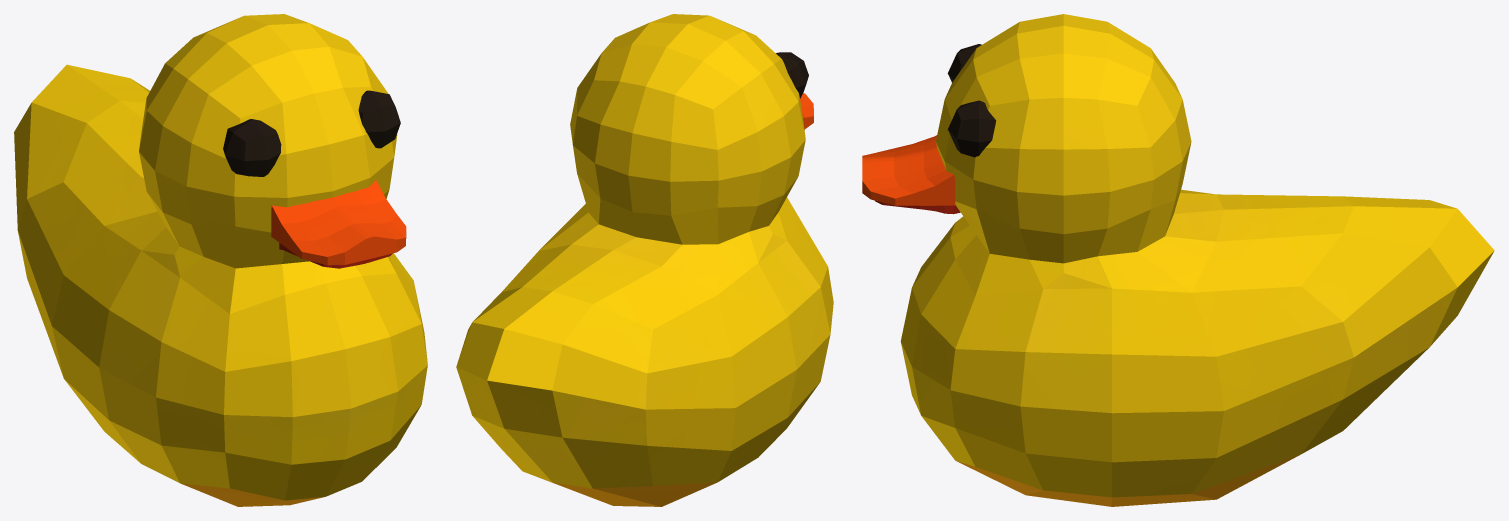
The model's file is bebek dan ikan.fbx.
The picture shows the model from 3 angles, left to right: view 1: azimuth 30°, elevation 25°; view 2: azimuth 150°, elevation 25°; view 3: azimuth 270°, elevation 25°; orthographic projection. The views are drawn at different scales.
Visible parts, largest first — view 1: Bebek; view 2: Bebek; view 3: Bebek.
Boxes of the visible parts, x1=… form: Bebek: x1=14, y1=14, x2=427, y2=506; Bebek: x1=456, y1=14, x2=833, y2=506; Bebek: x1=862, y1=14, x2=1494, y2=506.
Size of the model in its own units: 2 by 3.16 by 3.88.
1 material, 1 textured.
